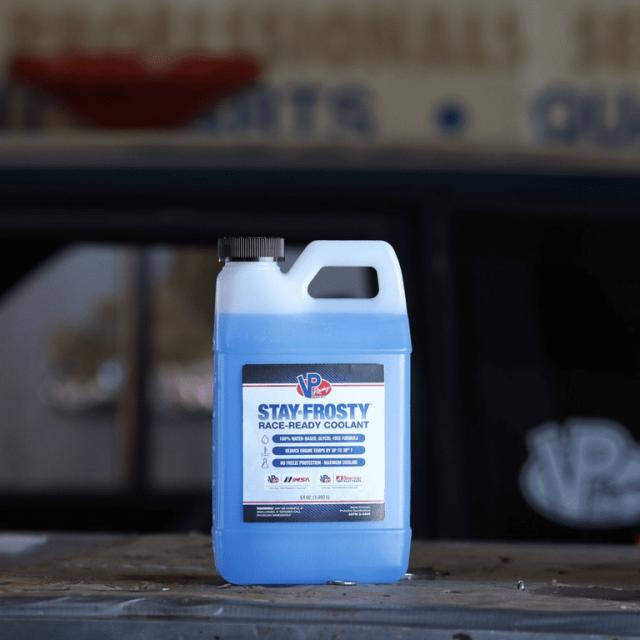coolant: (206, 227, 415, 588)
